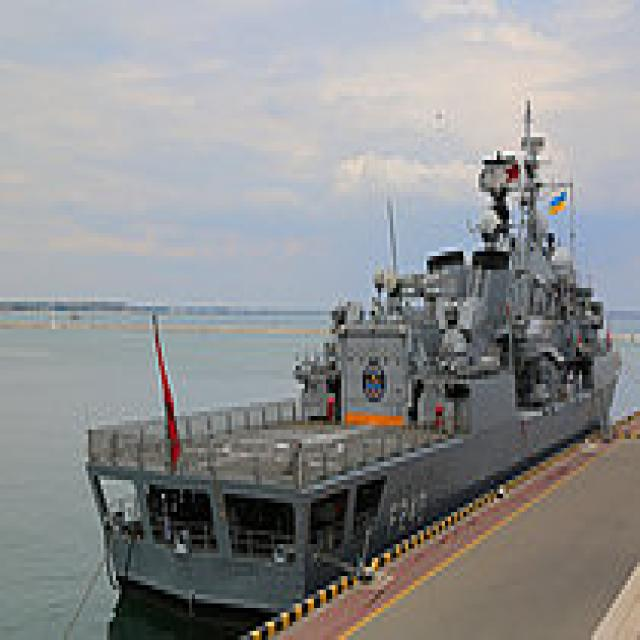Warship: (79, 96, 622, 626)
